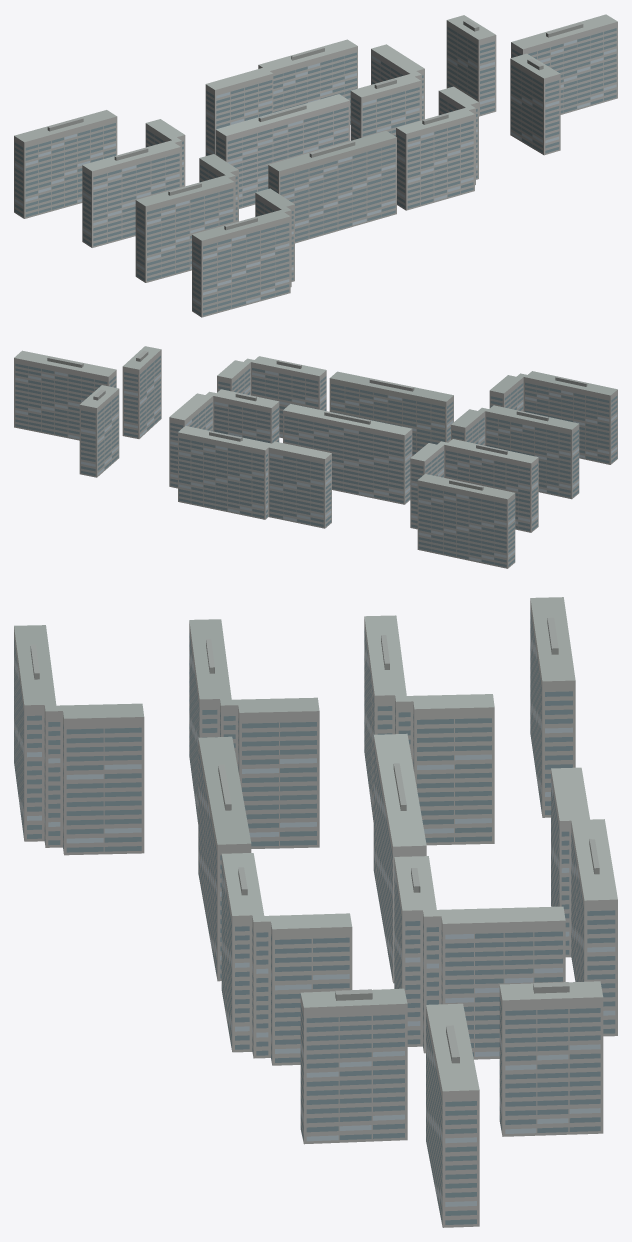
Rendered from apt-a13286110.glb.
The picture shows the model from 3 angles, top to bottom: view 1: azimuth 30°, elevation 25°; view 2: azimuth 150°, elevation 25°; view 3: azimuth 270°, elevation 25°; orthographic projection. The views are drawn at different scales.
Parts seen in each view (by area): view 1: apt-a13286110; view 2: apt-a13286110; view 3: apt-a13286110.
Part boxes in pixels (box(x1,y1,x2,y2)): apt-a13286110: box(14, 14, 617, 317); apt-a13286110: box(14, 346, 617, 568); apt-a13286110: box(14, 597, 617, 1227).
Size of the model in its own units: 355 by 47.81 by 183.
